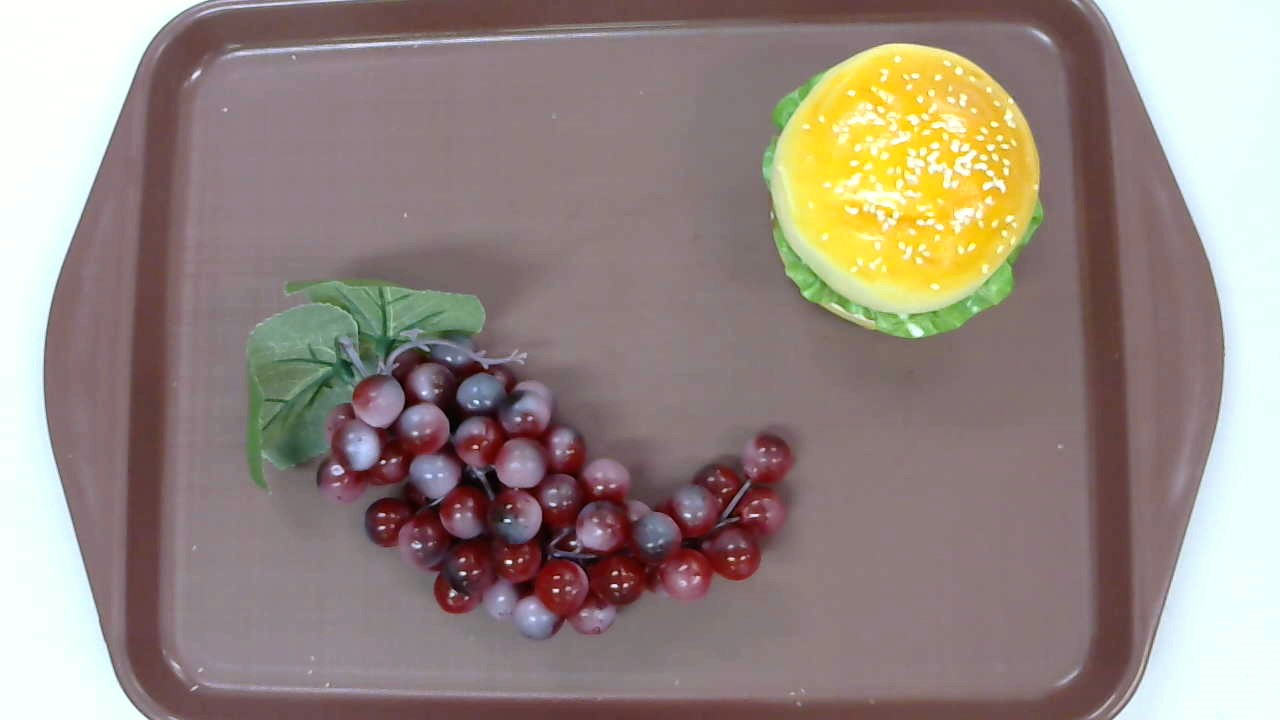grape: (245, 278, 797, 643)
hamburger: (760, 43, 1043, 337)
